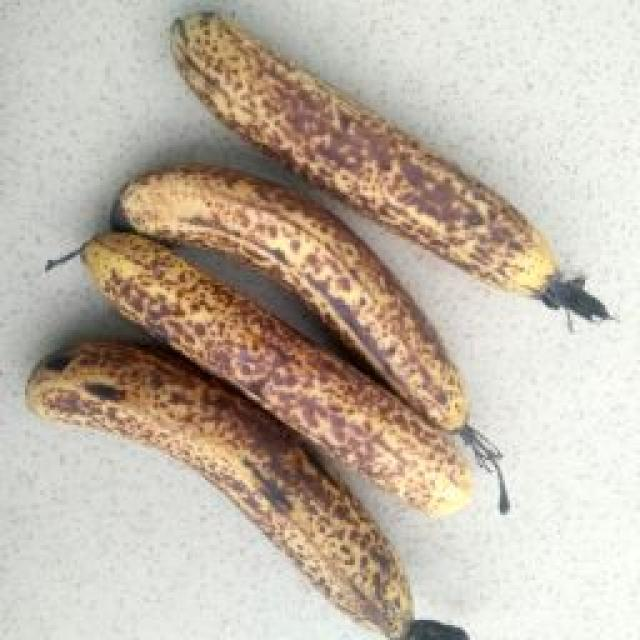banana: (118, 93, 551, 502)
